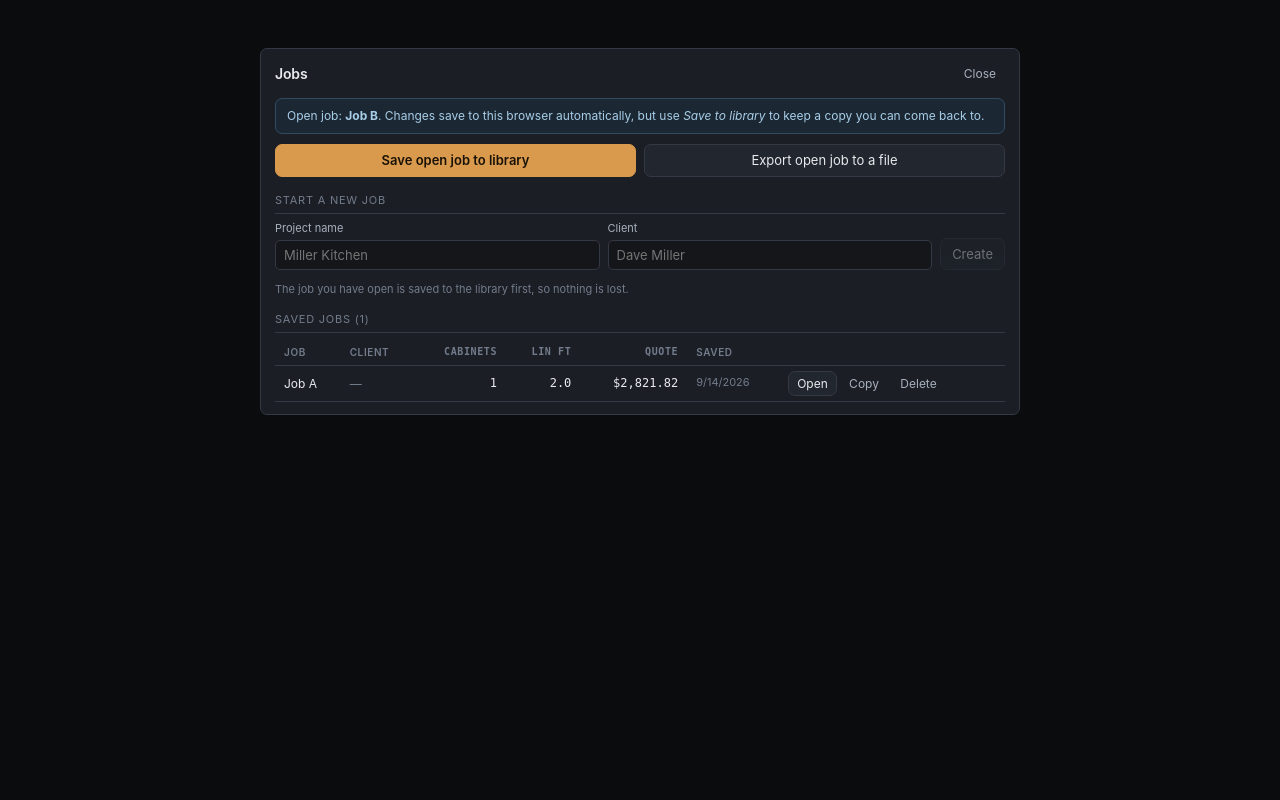
Scenario: JobsPanel when storage refuses the write › stays put rather than switching away over unsaved work
This screenshot has width=1280, height=800.
Click the button "Open" at (812, 383), box [788,371,837,396]
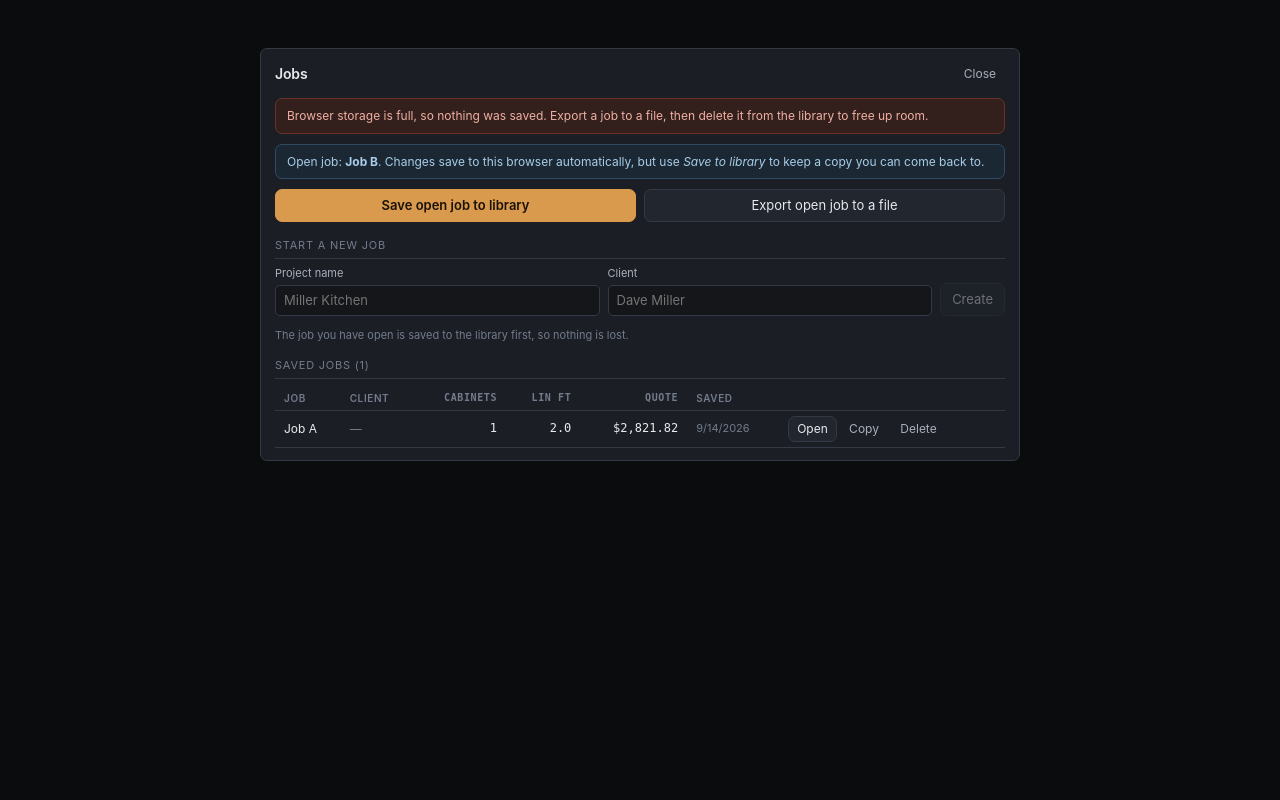
Now the text with class "bad" is shown, box [275,98,1005,134]
